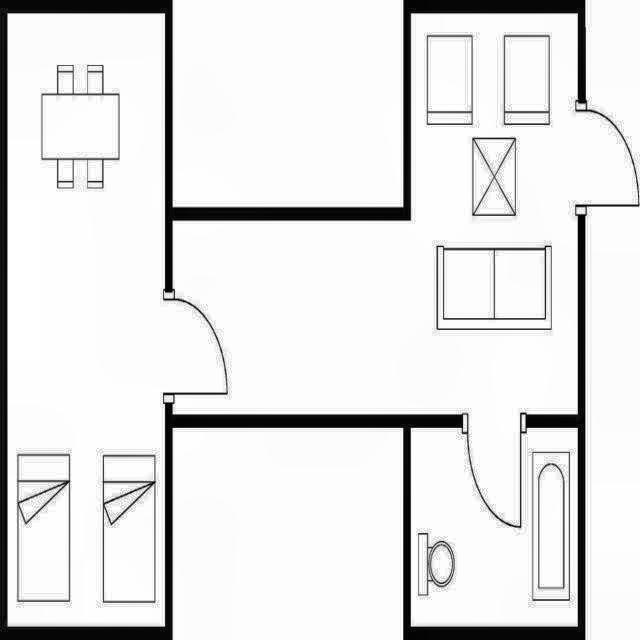room: (172, 13, 578, 414), (8, 14, 165, 627), (411, 428, 578, 627)
